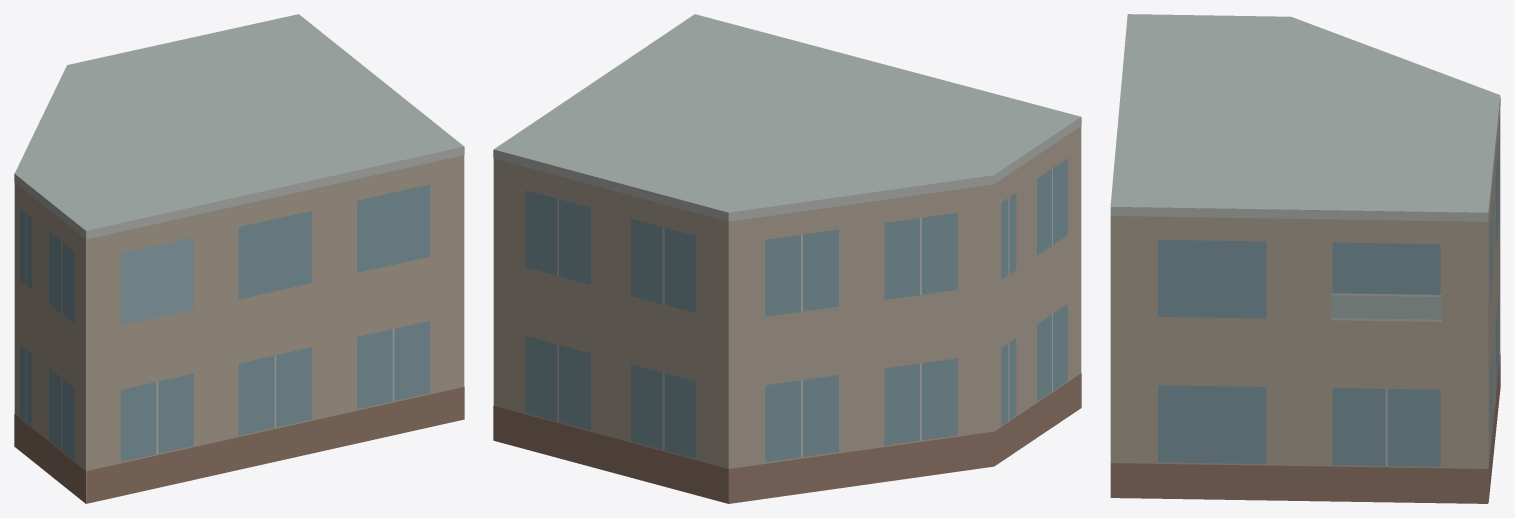
Rendered from survey-upis-32971255.glb.
The picture shows the model from 3 angles, left to right: view 1: azimuth 30°, elevation 25°; view 2: azimuth 150°, elevation 25°; view 3: azimuth 270°, elevation 25°; orthographic projection. The views are drawn at different scales.
Visible parts, largest first — view 1: survey-upis-32971255.tmp; view 2: survey-upis-32971255.tmp; view 3: survey-upis-32971255.tmp.
Boxes of the visible parts, box(x1,y1,x2,y2) form: survey-upis-32971255.tmp: box(14, 14, 464, 503); survey-upis-32971255.tmp: box(493, 14, 1081, 503); survey-upis-32971255.tmp: box(1110, 14, 1500, 503).
Bounding box in the file's own units: 11.43 × 7.8 × 9.48.
